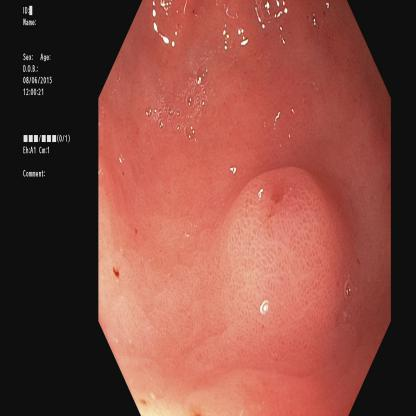Labels: (21, 2, 72, 200)
Polyps: (212, 167, 350, 349)
